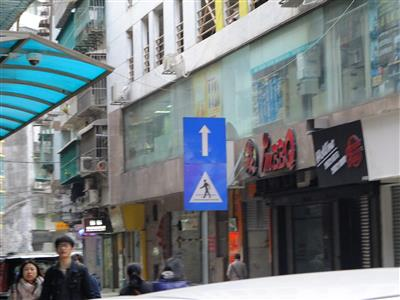oneway: (178, 111, 229, 164)
pedestrianCrossing: (179, 160, 230, 212)
